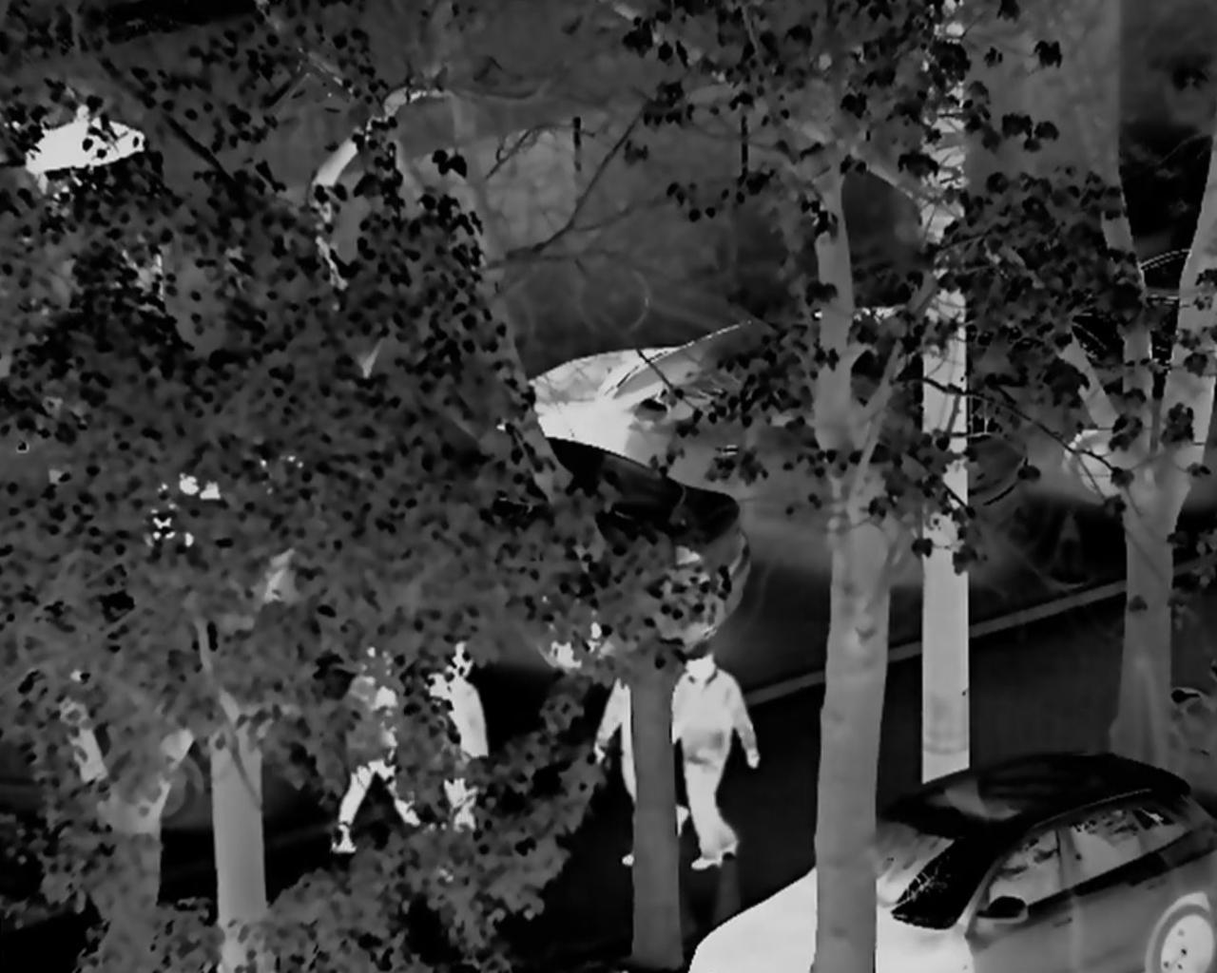person: (660, 640, 777, 873), (326, 639, 427, 865), (594, 657, 695, 872), (430, 634, 509, 848)
